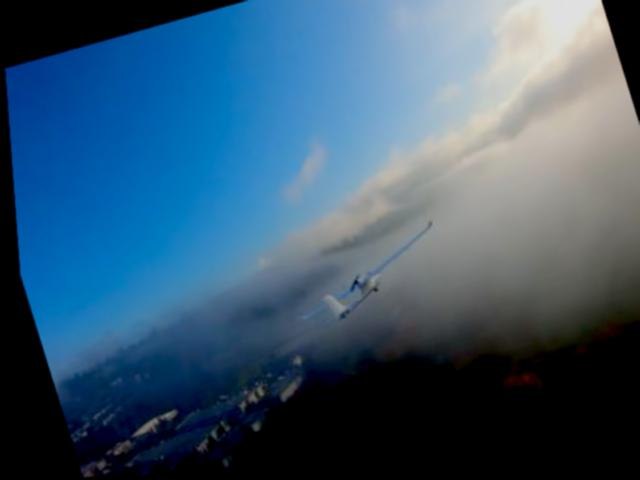uav: (266, 214, 464, 357)
